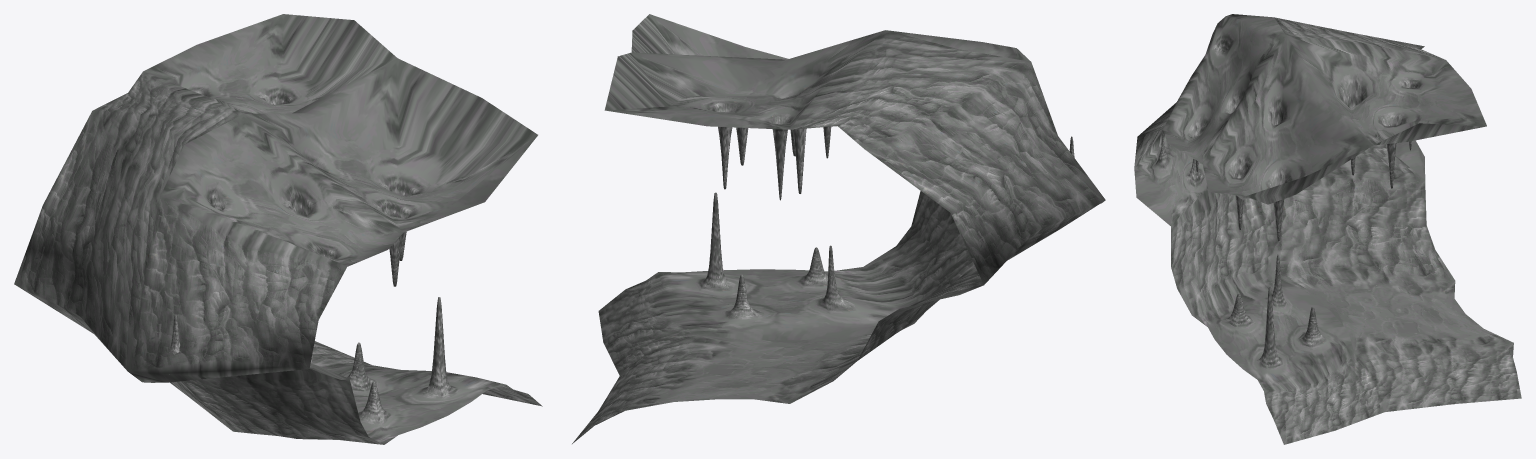
The model's file is SWORDLIGHT20_PS-AREA05_02.fbx.
3 renders of one model, left to right at view 1: azimuth 30°, elevation 25°; view 2: azimuth 150°, elevation 25°; view 3: azimuth 270°, elevation 25°, orthographic. The views are drawn at different scales.
Parts seen in each view (by area): view 1: SWORDLIGHT20_PS-AREA05_02; view 2: SWORDLIGHT20_PS-AREA05_02; view 3: SWORDLIGHT20_PS-AREA05_02.
Boxes of the visible parts, x1,y1,x2,y2 form: SWORDLIGHT20_PS-AREA05_02: [14, 14, 542, 444]; SWORDLIGHT20_PS-AREA05_02: [572, 14, 1105, 443]; SWORDLIGHT20_PS-AREA05_02: [1134, 14, 1521, 444].
Bounding box in the file's own units: 223331 × 165725 × 198969.
Materials: 5 (5 with a texture image).
